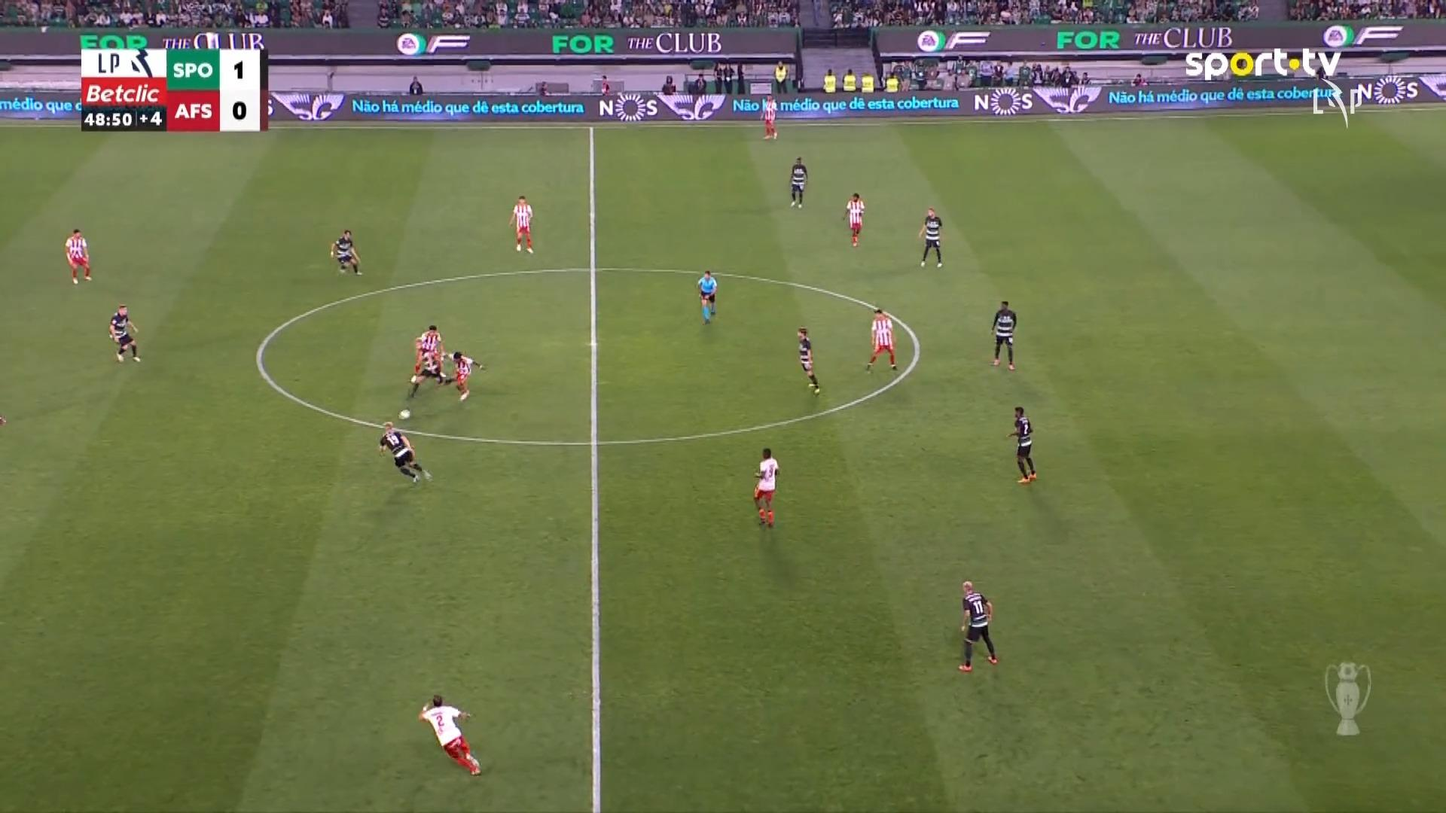ball: (398, 409, 410, 419)
player: (418, 693, 481, 776), (957, 580, 998, 671), (378, 420, 432, 484), (407, 324, 449, 397), (1007, 405, 1037, 483), (752, 446, 779, 528), (865, 307, 898, 372), (446, 350, 485, 400), (108, 303, 140, 363), (990, 299, 1017, 370), (796, 327, 820, 395), (64, 227, 92, 285), (918, 206, 943, 268), (508, 195, 534, 254), (329, 229, 362, 275), (844, 192, 865, 247), (789, 155, 808, 208), (760, 94, 778, 140)
referee: (697, 269, 717, 324)
